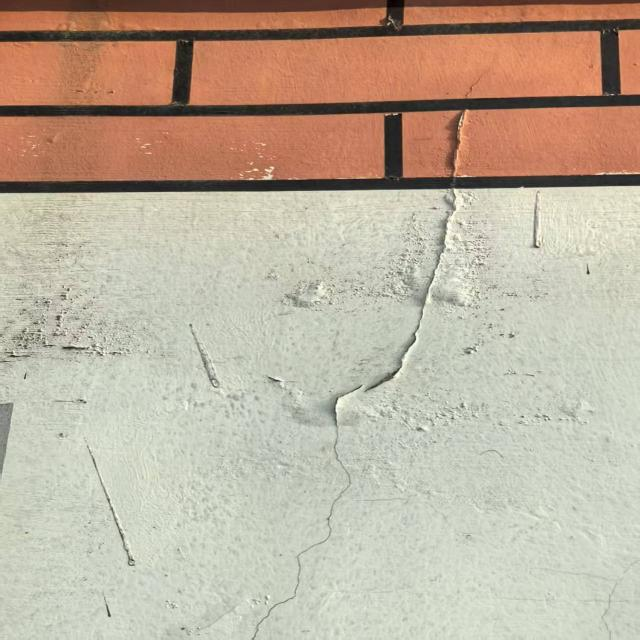crack: (235, 67, 495, 634)
